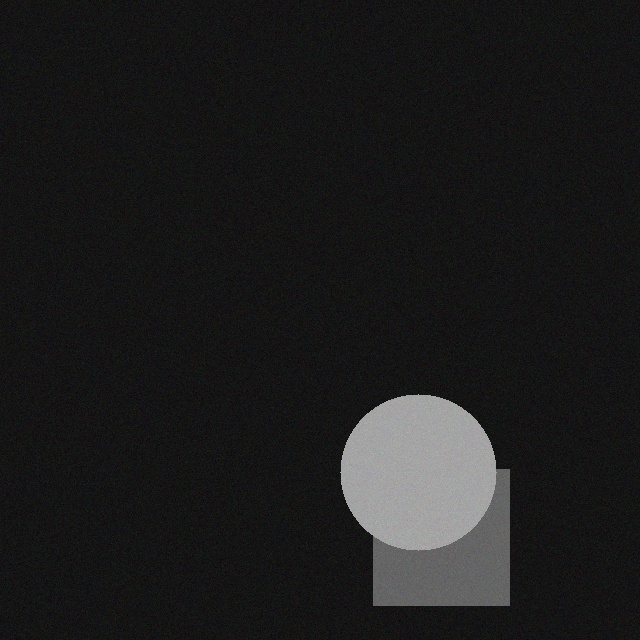circle: (329, 405, 485, 561)
square: (362, 480, 498, 616)
